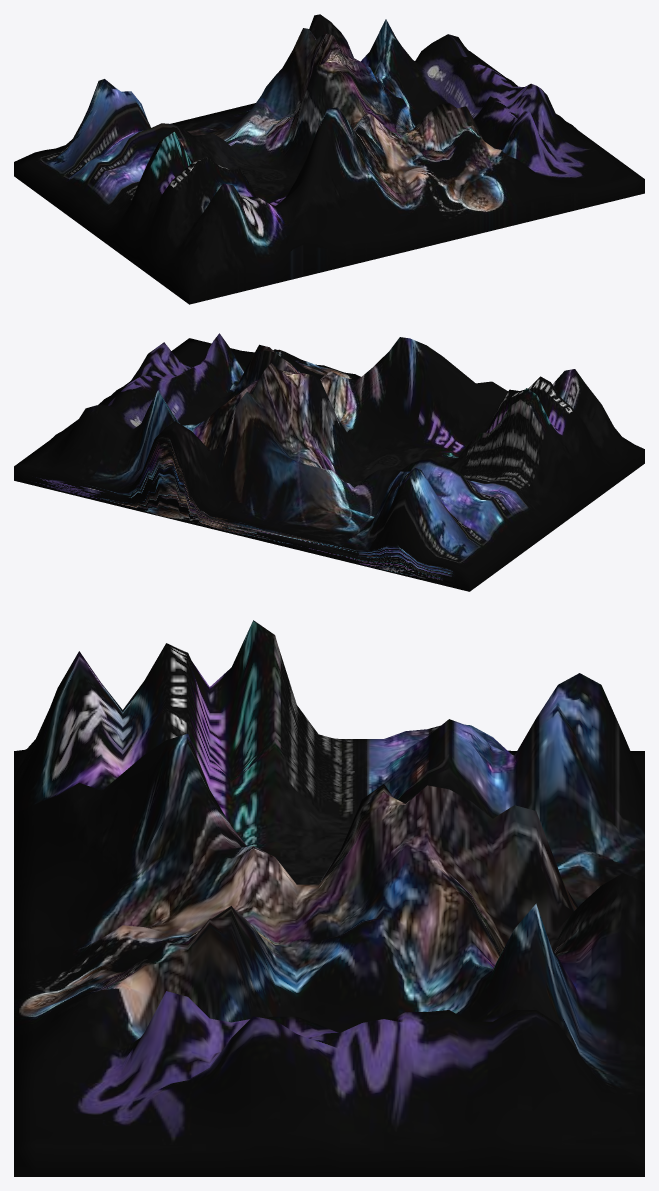
File: SECT_08_Drunken.glb
The picture shows the model from 3 angles, top to bottom: view 1: azimuth 30°, elevation 25°; view 2: azimuth 150°, elevation 25°; view 3: azimuth 270°, elevation 25°; orthographic projection. The views are drawn at different scales.
Parts seen in each view (by area): view 1: SECT_08_Drunken; view 2: SECT_08_Drunken; view 3: SECT_08_Drunken.
Boxes of the visible parts, <box> form: SECT_08_Drunken: <box>14,14,644,304</box>; SECT_08_Drunken: <box>14,333,644,591</box>; SECT_08_Drunken: <box>14,620,644,1176</box>.
Bounding box in the file's own units: 2 × 0.51 × 1.33.
Materials: 1 (1 with a texture image).
